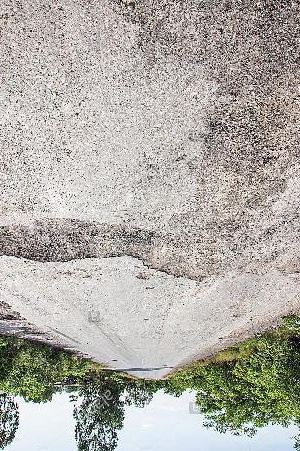pothole: (0, 214, 128, 265), (138, 224, 215, 286)
